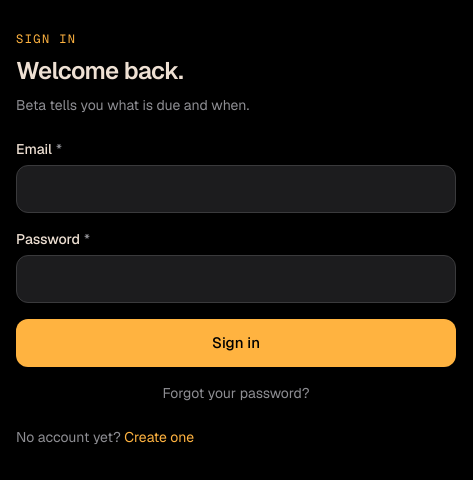
Test: login screen › shows one generic message for any rejected sign-in
The width and height of the screenshot is (473, 480).
Check: the heading "Welcome back." is shown, box x1=16 y1=55 x2=183 y2=86
Type "rider@example.com" into the field labelled "Email*" at (236, 189), box x1=16 y1=165 x2=456 y2=213
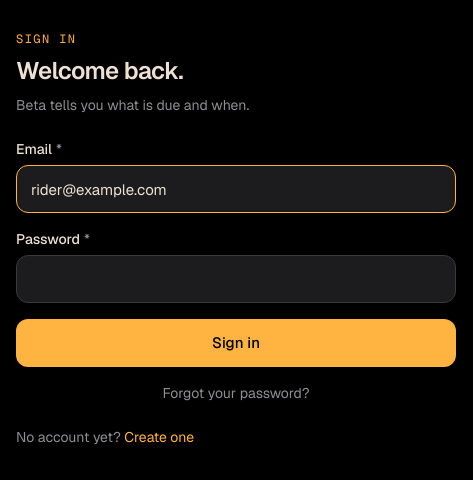
Type "correct-horse-battery" into the password field labelled "Password*" at (236, 279), box x1=16 y1=255 x2=456 y2=303
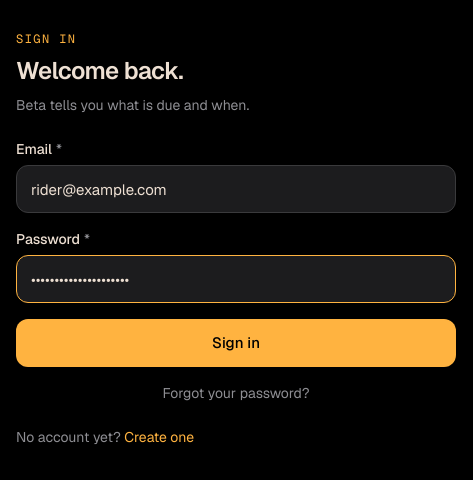
Click the button named "Sign in" at (236, 343), box x1=16 y1=319 x2=456 y2=367
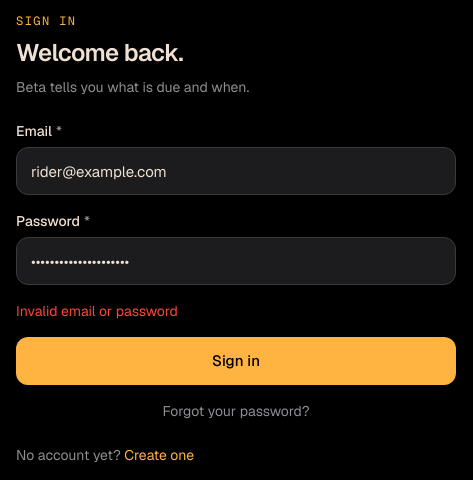
Check: the heading "Welcome back." is shown, box x1=16 y1=37 x2=183 y2=68
Check: the text "Invalid email or password" is shown, box x1=16 y1=302 x2=178 y2=320
